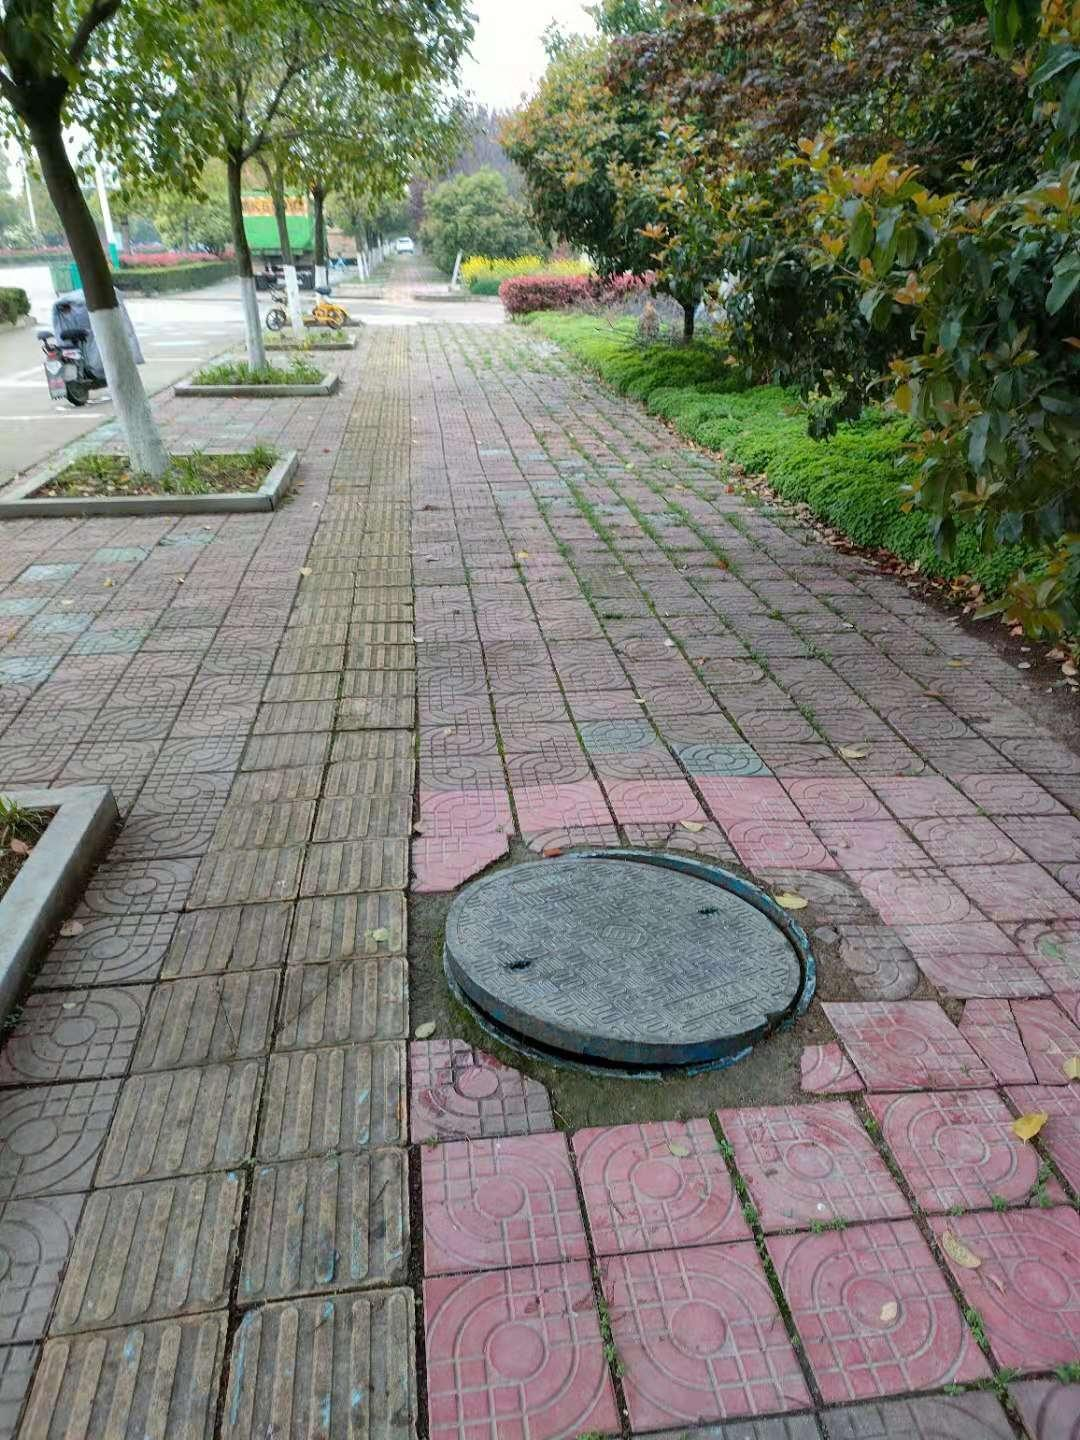wellcover: (416, 844, 853, 1076)
